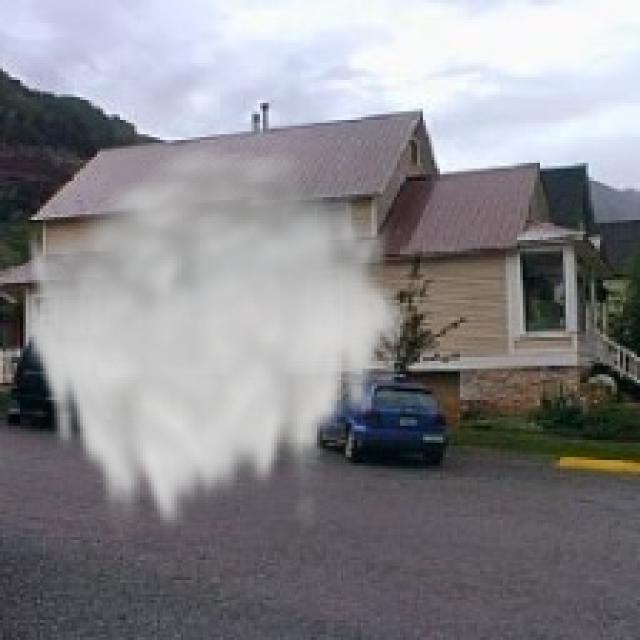smoke: (20, 137, 411, 543)
